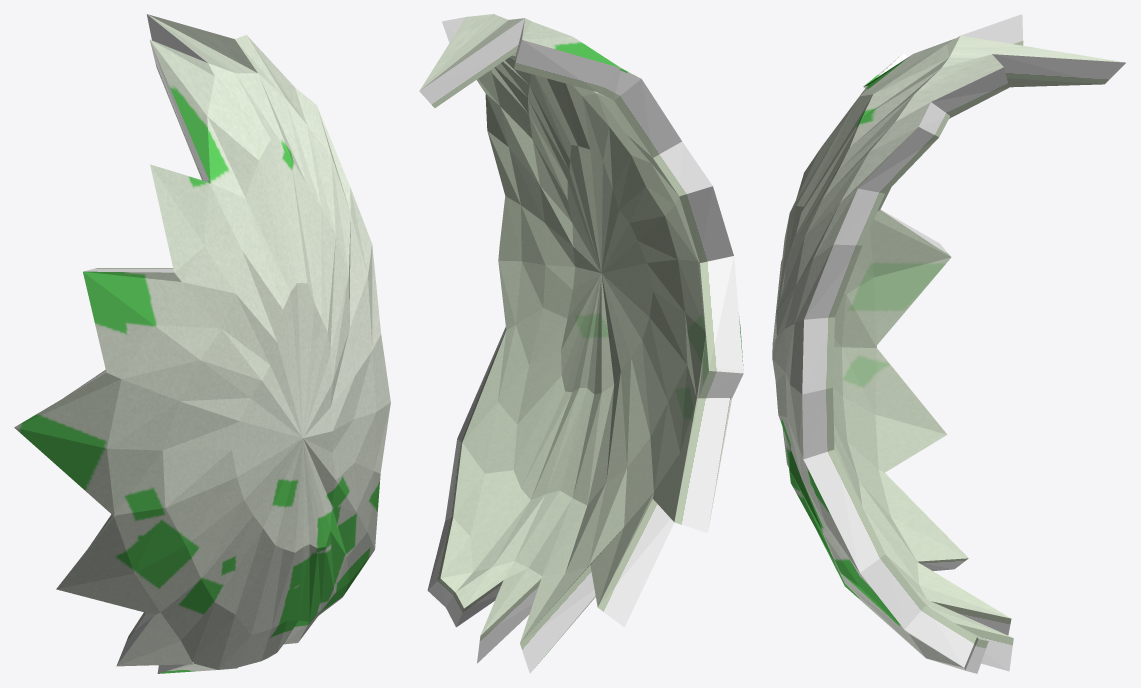
File: Shard.fbx
The picture shows the model from 3 angles, left to right: view 1: azimuth 30°, elevation 25°; view 2: azimuth 150°, elevation 25°; view 3: azimuth 270°, elevation 25°; orthographic projection.
Parts seen in each view (by area): view 1: Shard; view 2: Shard; view 3: Shard.
Part boxes in pixels (left/top/right/bottom): Shard: left=14, top=14, right=390, bottom=673; Shard: left=419, top=14, right=743, bottom=673; Shard: left=772, top=14, right=1125, bottom=673.
Size of the model in its own units: 91.01 by 171 by 86.59.
1 material, 1 textured.
